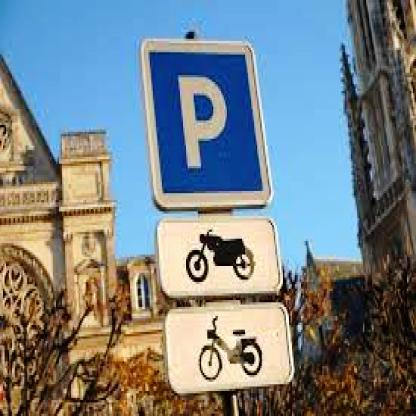Parking: (136, 31, 266, 209)
